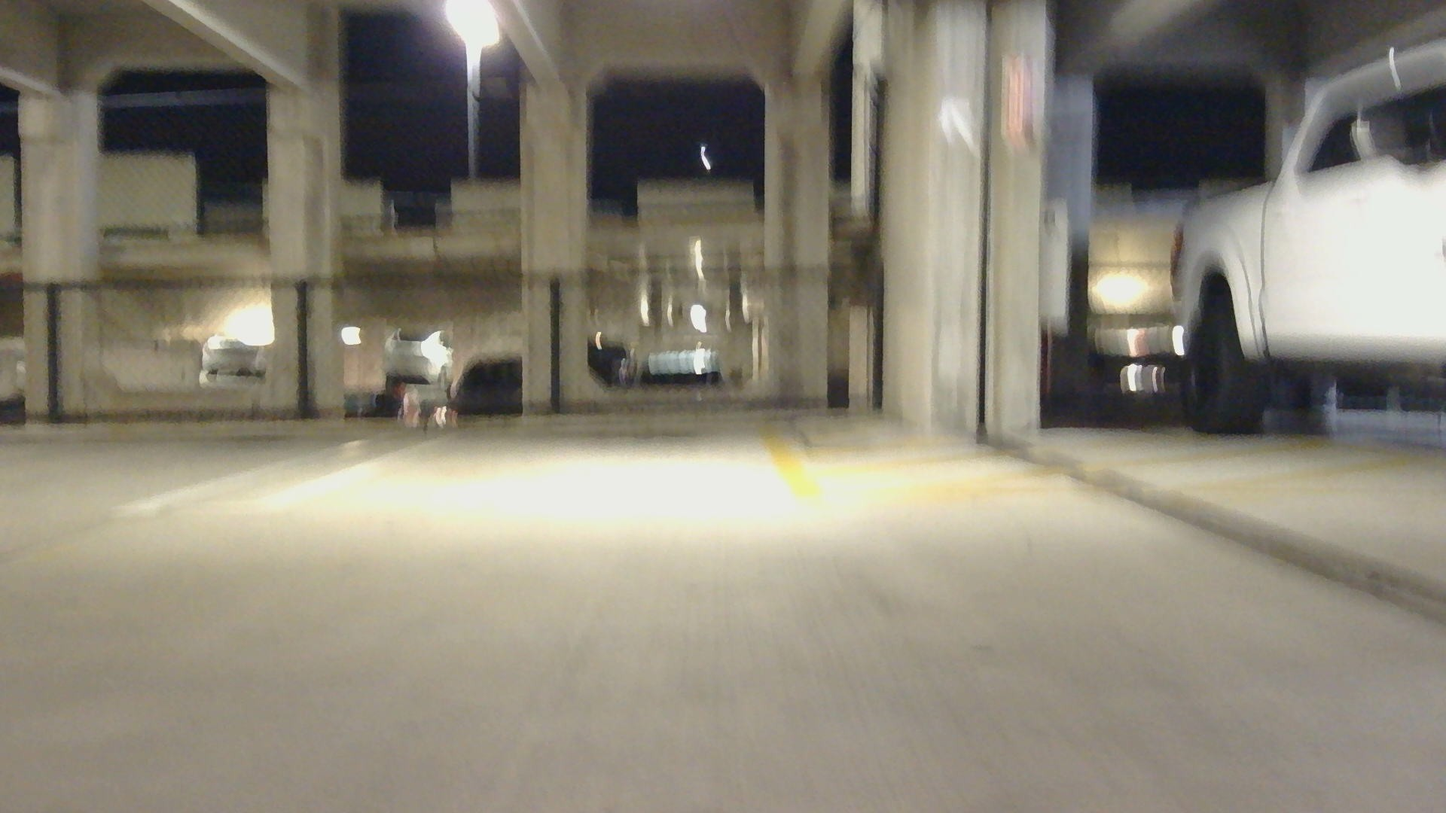empty_spot: (286, 369, 805, 514), (0, 378, 378, 516)
occupied_spot: (1181, 40, 1442, 438)
